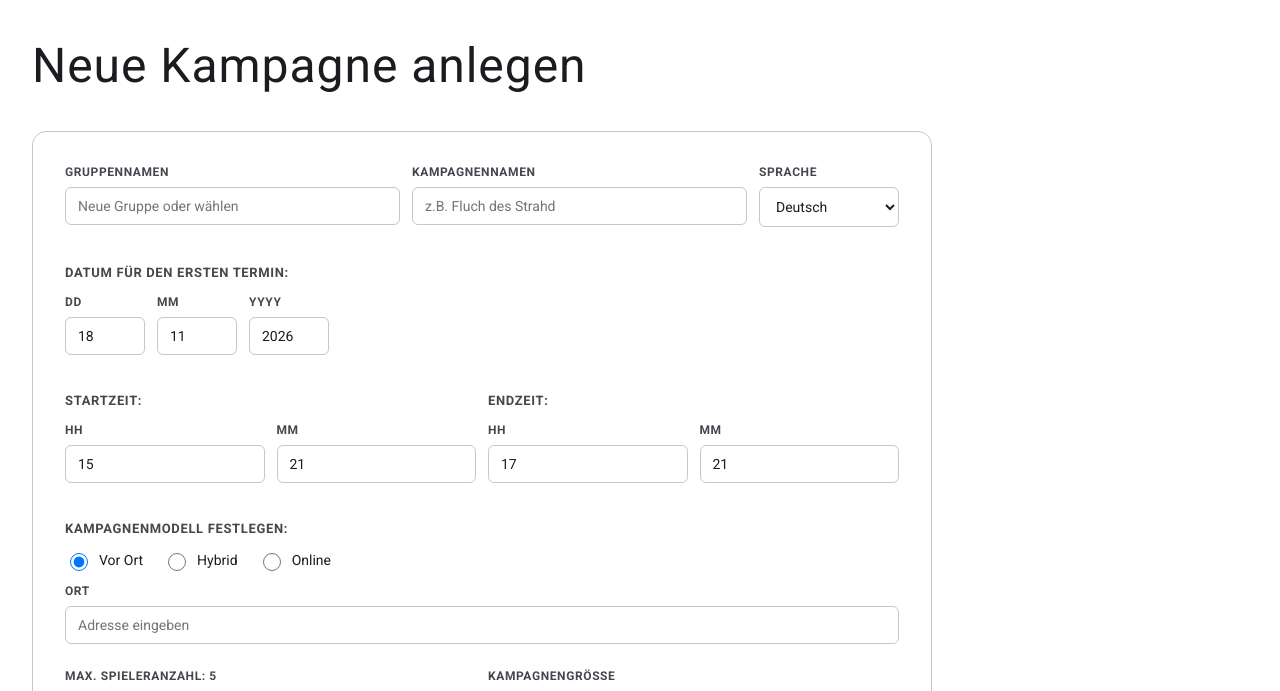
Test case: NeueKampagne (Formular-Isolation) › blockiert den Submit-Button während des Speicherns (disabled + Label)
This screenshot has width=1280, height=691.
Type "Testkampagne" into the field with placeholder "z.B. Fluch des Strahd". click: [580, 206]
box: [412,187,747,225]
(page scrolled)
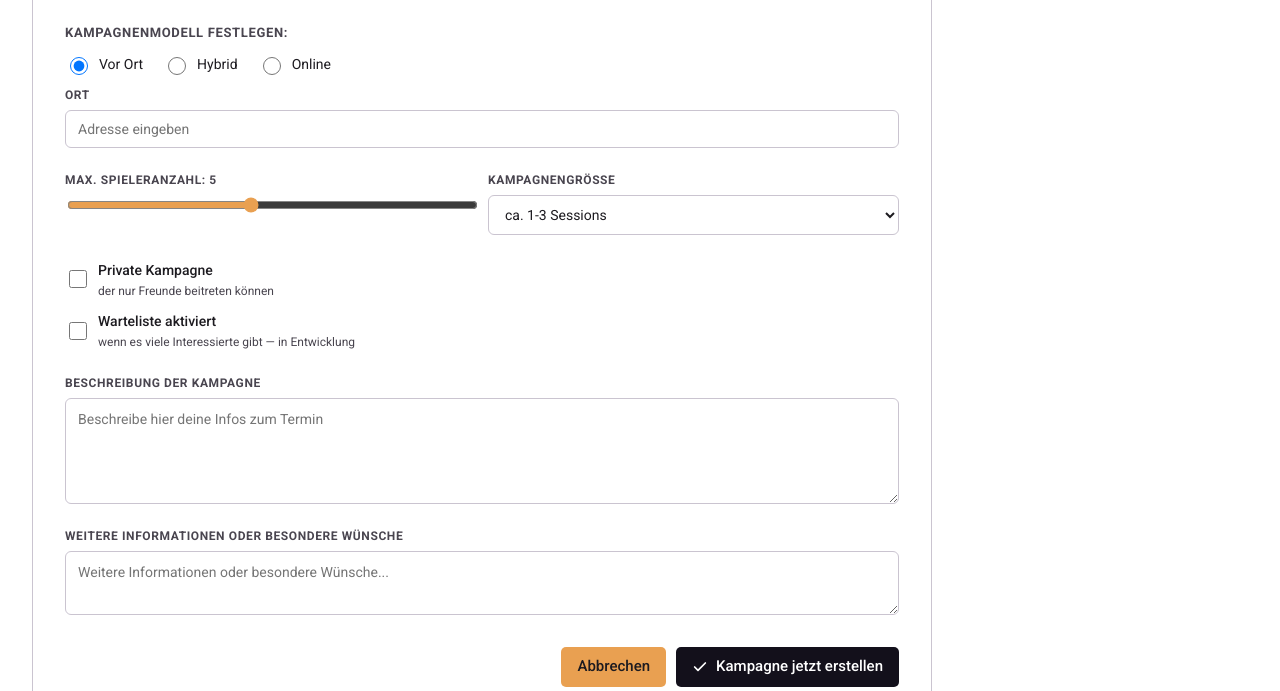
Click the button "Kampagne jetzt erstellen". click: [788, 667]
box: [676,647,899,687]
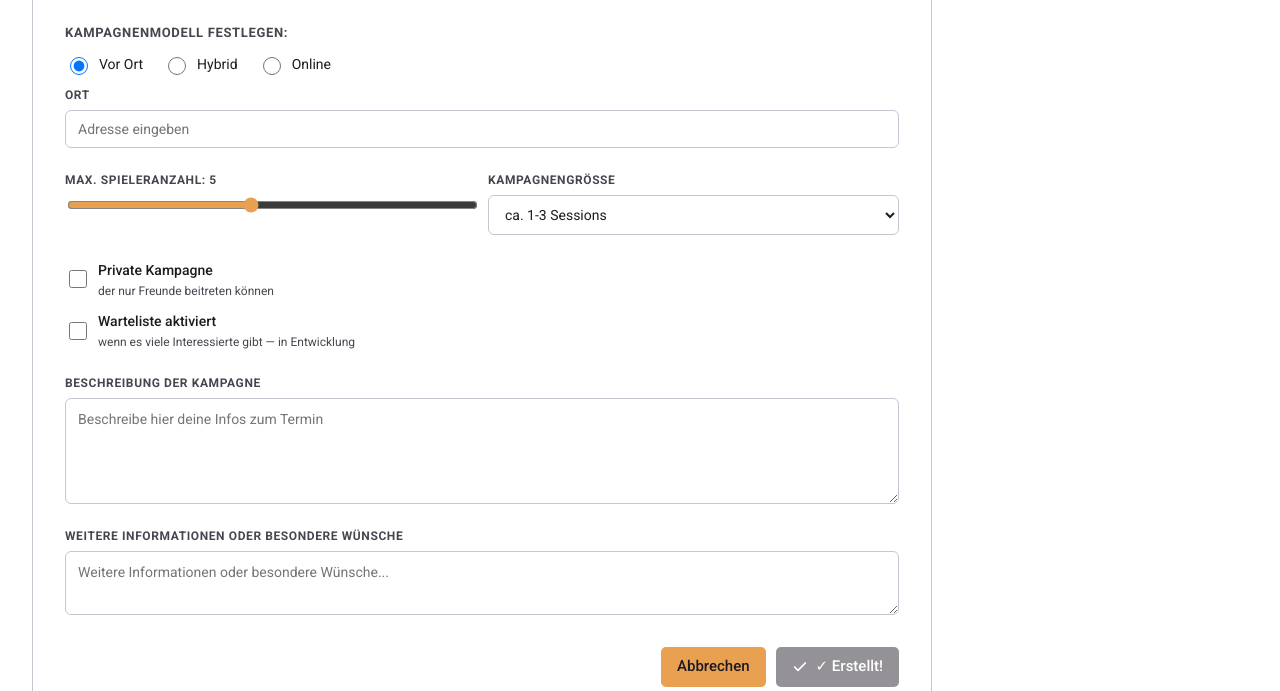
Expected: the button "✓ Erstellt!" is disabled, [776,647,899,687]
